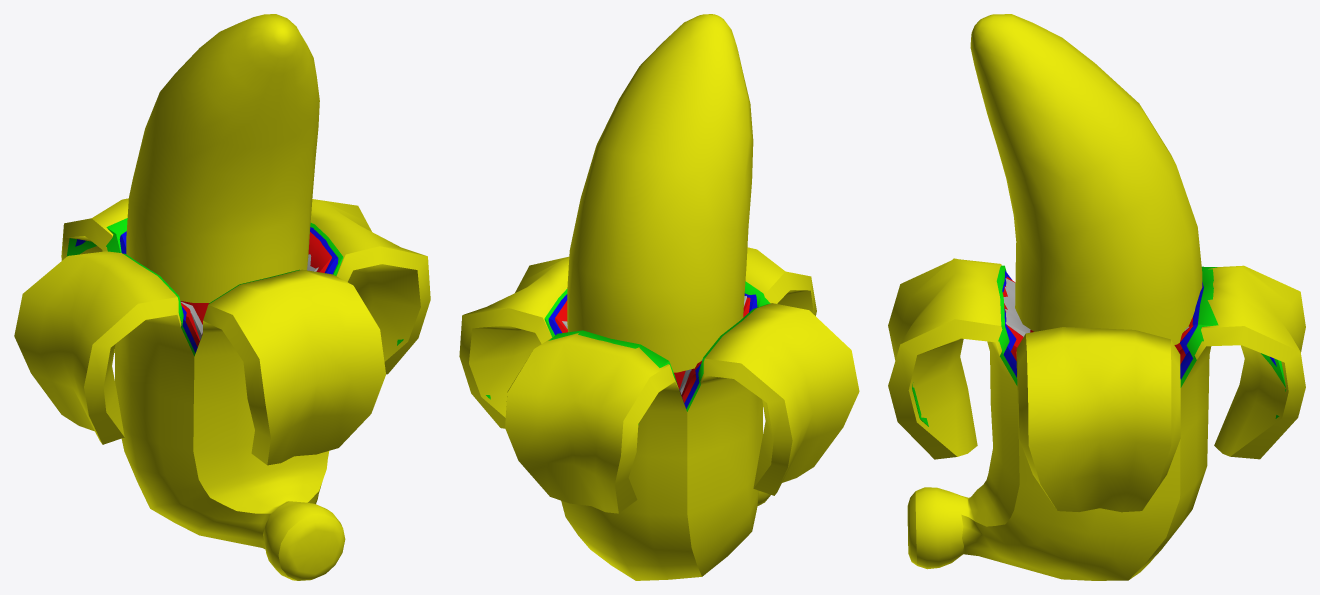
Rendered from banana.fbx.
3 views of the same model, side by side, from view 1: azimuth 30°, elevation 25°; view 2: azimuth 150°, elevation 25°; view 3: azimuth 270°, elevation 25° (orthographic). The views are drawn at different scales.
Parts seen in each view (by area): view 1: Banana_Outline4, Banana_Outline3, Banana_Outline1, Banana_Outline2; view 2: Banana_Outline4, Banana_Outline3, Banana_Outline1, Banana_Outline2; view 3: Banana_Outline4, Banana_Outline3, Banana_Outline2, Banana_obj.
Part boxes in pixels (<box>): Banana_Outline4: <box>14,14,430,580</box>; Banana_Outline3: <box>66,218,403,356</box>; Banana_Outline1: <box>180,232,331,346</box>; Banana_Outline2: <box>75,227,338,352</box>; Banana_Outline4: <box>459,14,859,580</box>; Banana_Outline3: <box>486,281,770,424</box>; Banana_Outline1: <box>555,297,750,402</box>; Banana_Outline2: <box>548,293,757,408</box>; Banana_Outline4: <box>888,14,1305,580</box>; Banana_Outline3: <box>912,265,1286,426</box>; Banana_Outline2: <box>1002,270,1276,379</box>; Banana_obj: <box>1003,278,1189,336</box>.
Bounding box in the file's own units: 124 × 185 × 127.
